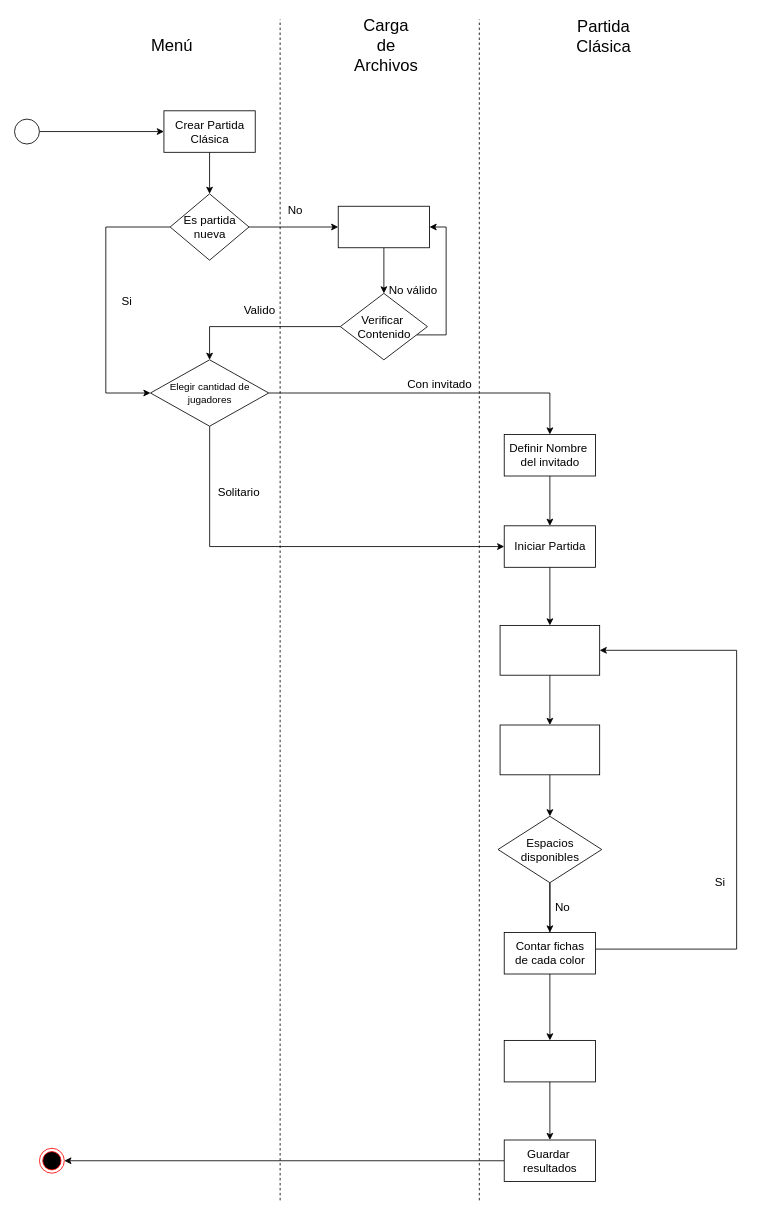
Some shapes in this 758 by 1216 pixel diagram are drawn without their labels. The box of each missing label's shape, as (x1, y1, x2, y2) in pixels:
Cambiar Fichas Encerradas: (499, 724, 600, 775)
Cargar Archivo XML: (337, 205, 430, 248)
Definir ganador: (503, 1040, 596, 1082)
Poner Ficha: (499, 625, 600, 675)
